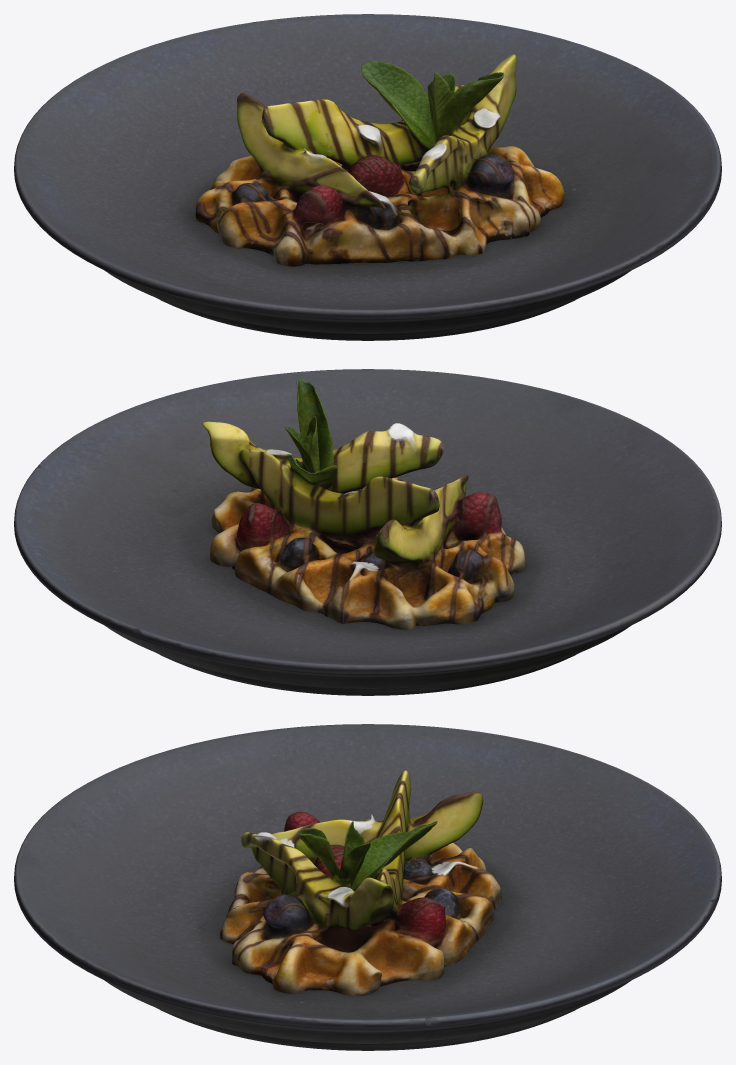
Rendered from Very Berry Waffle.FBX.
3 views of the same model, one above another, from view 1: azimuth 30°, elevation 25°; view 2: azimuth 150°, elevation 25°; view 3: azimuth 270°, elevation 25° (orthographic).
Parts seen in each view (by area): view 1: Dish27_Very Berry Waffle; view 2: Dish27_Very Berry Waffle; view 3: Dish27_Very Berry Waffle.
Part boxes in pixels (<box>): Dish27_Very Berry Waffle: <box>14,14,721,340</box>; Dish27_Very Berry Waffle: <box>14,369,721,695</box>; Dish27_Very Berry Waffle: <box>14,724,721,1050</box>.
Size of the model in its own units: 25.57 by 6.08 by 25.57.
Materials: 1 (1 with a texture image).
